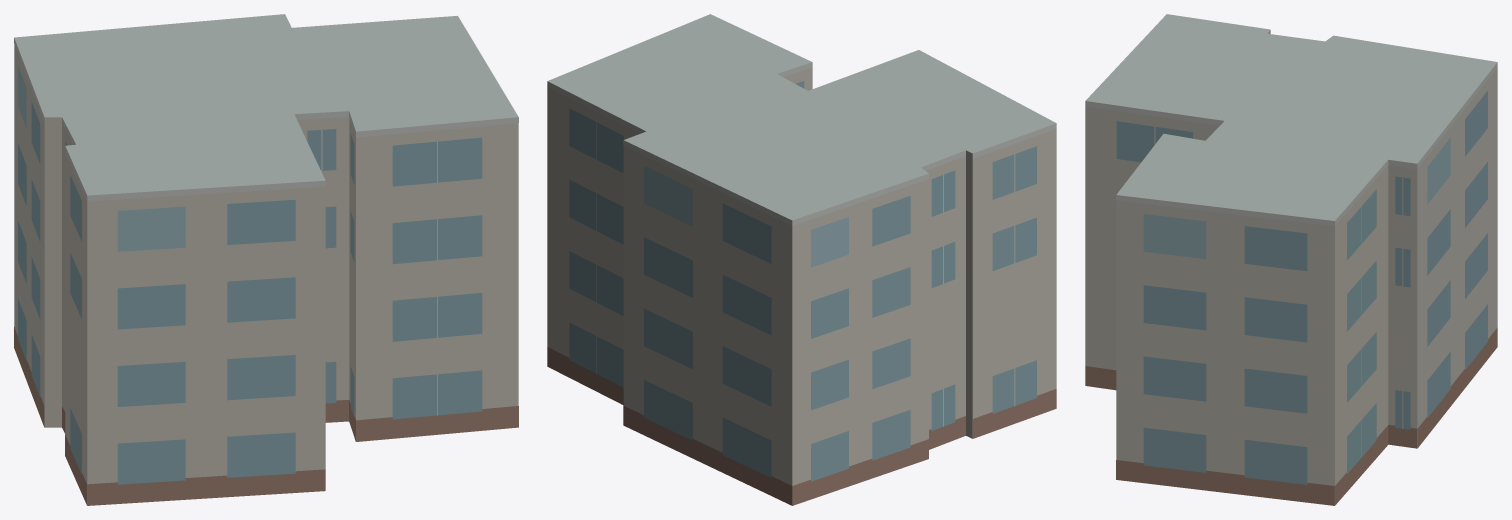
File: survey-upis-32640491.glb
3 views of the same model, side by side, from view 1: azimuth 30°, elevation 25°; view 2: azimuth 150°, elevation 25°; view 3: azimuth 270°, elevation 25° (orthographic). The views are drawn at different scales.
Visible parts, largest first — view 1: survey-upis-32640491.tmp; view 2: survey-upis-32640491.tmp; view 3: survey-upis-32640491.tmp.
Boxes of the visible parts, x1,y1,x2,y2 form: survey-upis-32640491.tmp: (14, 14, 518, 505); survey-upis-32640491.tmp: (547, 14, 1056, 505); survey-upis-32640491.tmp: (1085, 14, 1497, 505).
Size of the model in its own units: 19.96 by 12.8 by 16.8.
